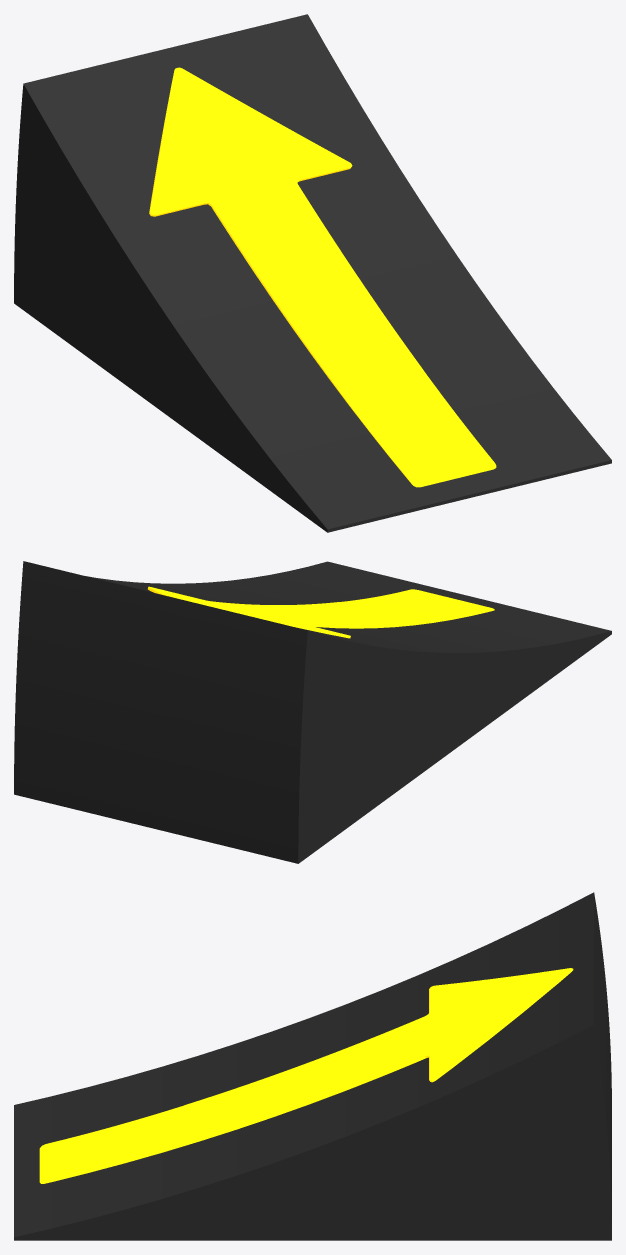
File: rampe avec boost.glb
3 views of the same model, one above another, from view 1: azimuth 30°, elevation 25°; view 2: azimuth 150°, elevation 25°; view 3: azimuth 270°, elevation 25° (orthographic). The views are drawn at different scales.
Parts seen in each view (by area): view 1: rampe avec fleche .001, Arrow 4.001; view 2: rampe avec fleche .001, Arrow 4.001; view 3: rampe avec fleche .001, Arrow 4.001.
Boxes of the visible parts, x1,y1,x2,y2 form: rampe avec fleche .001: (14, 14, 611, 532); Arrow 4.001: (149, 67, 496, 487); rampe avec fleche .001: (14, 561, 611, 863); Arrow 4.001: (148, 586, 494, 638); rampe avec fleche .001: (14, 892, 611, 1240); Arrow 4.001: (39, 968, 573, 1183).
Size of the model in its own units: 7.04 by 5.36 by 13.44.
